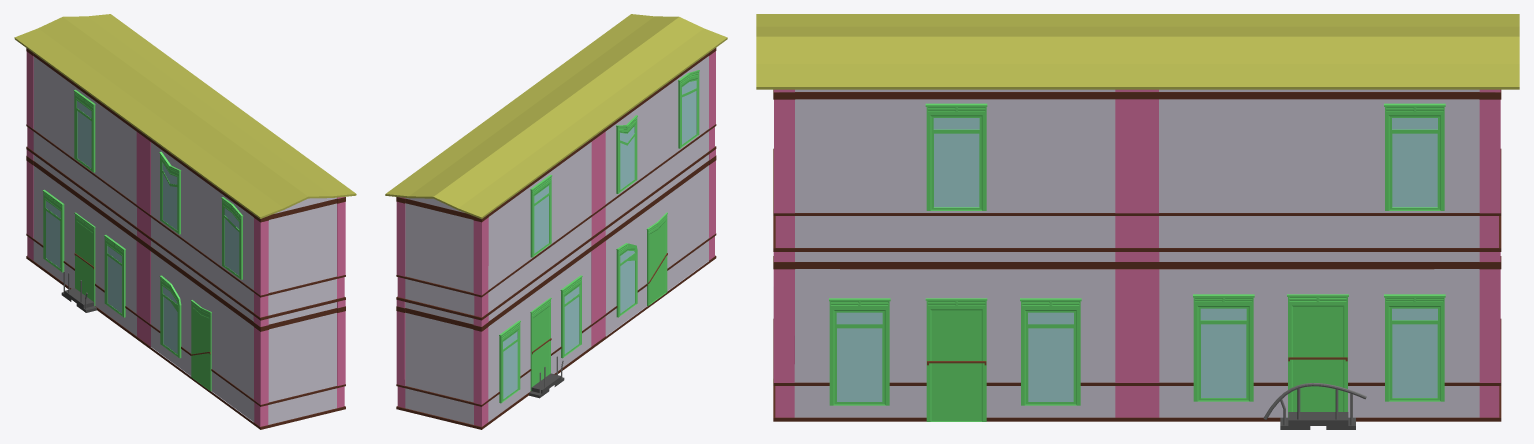
The model's file is House_structure_00_V5.fbx.
3 renders of one model, left to right at view 1: azimuth 30°, elevation 25°; view 2: azimuth 150°, elevation 25°; view 3: azimuth 270°, elevation 25°, orthographic. The views are drawn at different scales.
Visible parts, largest first — view 1: House_structure_00.025; view 2: House_structure_00.025; view 3: House_structure_00.025.
Boxes of the visible parts, left/top/right/bottom form: House_structure_00.025: left=14, top=14, right=356, bottom=429; House_structure_00.025: left=385, top=14, right=727, bottom=429; House_structure_00.025: left=756, top=14, right=1519, bottom=429.
Size of the model in its own units: 310 by 624 by 1224.
